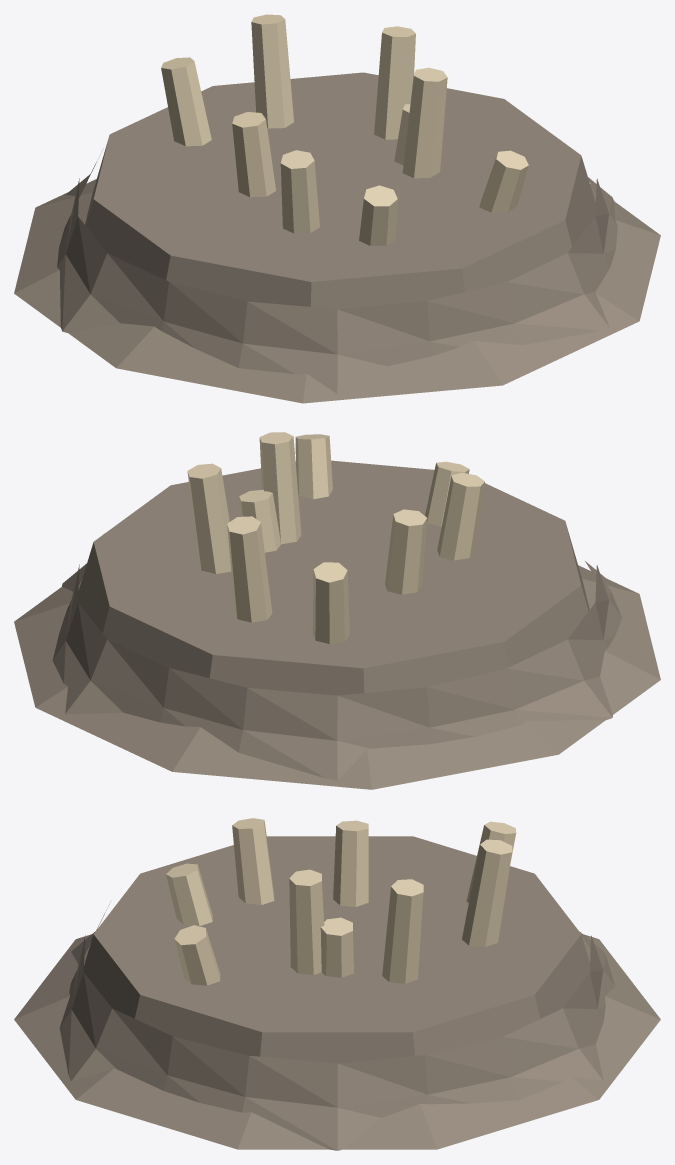
Rendered from temperate-forest-ecology-hazel-stool-cut-22234785__3822.glb.
3 renders of one model, top to bottom at view 1: azimuth 30°, elevation 25°; view 2: azimuth 150°, elevation 25°; view 3: azimuth 270°, elevation 25°, orthographic. The views are drawn at different scales.
Visible parts, largest first — view 1: hazel-stool-cut; view 2: hazel-stool-cut; view 3: hazel-stool-cut.
Part boxes in pixels (x1=…): hazel-stool-cut: x1=14, y1=14, x2=660, y2=403; hazel-stool-cut: x1=14, y1=432, x2=660, y2=789; hazel-stool-cut: x1=14, y1=818, x2=660, y2=1150.
Bounding box in the file's own units: 1.45 × 0.4662 × 1.51.
